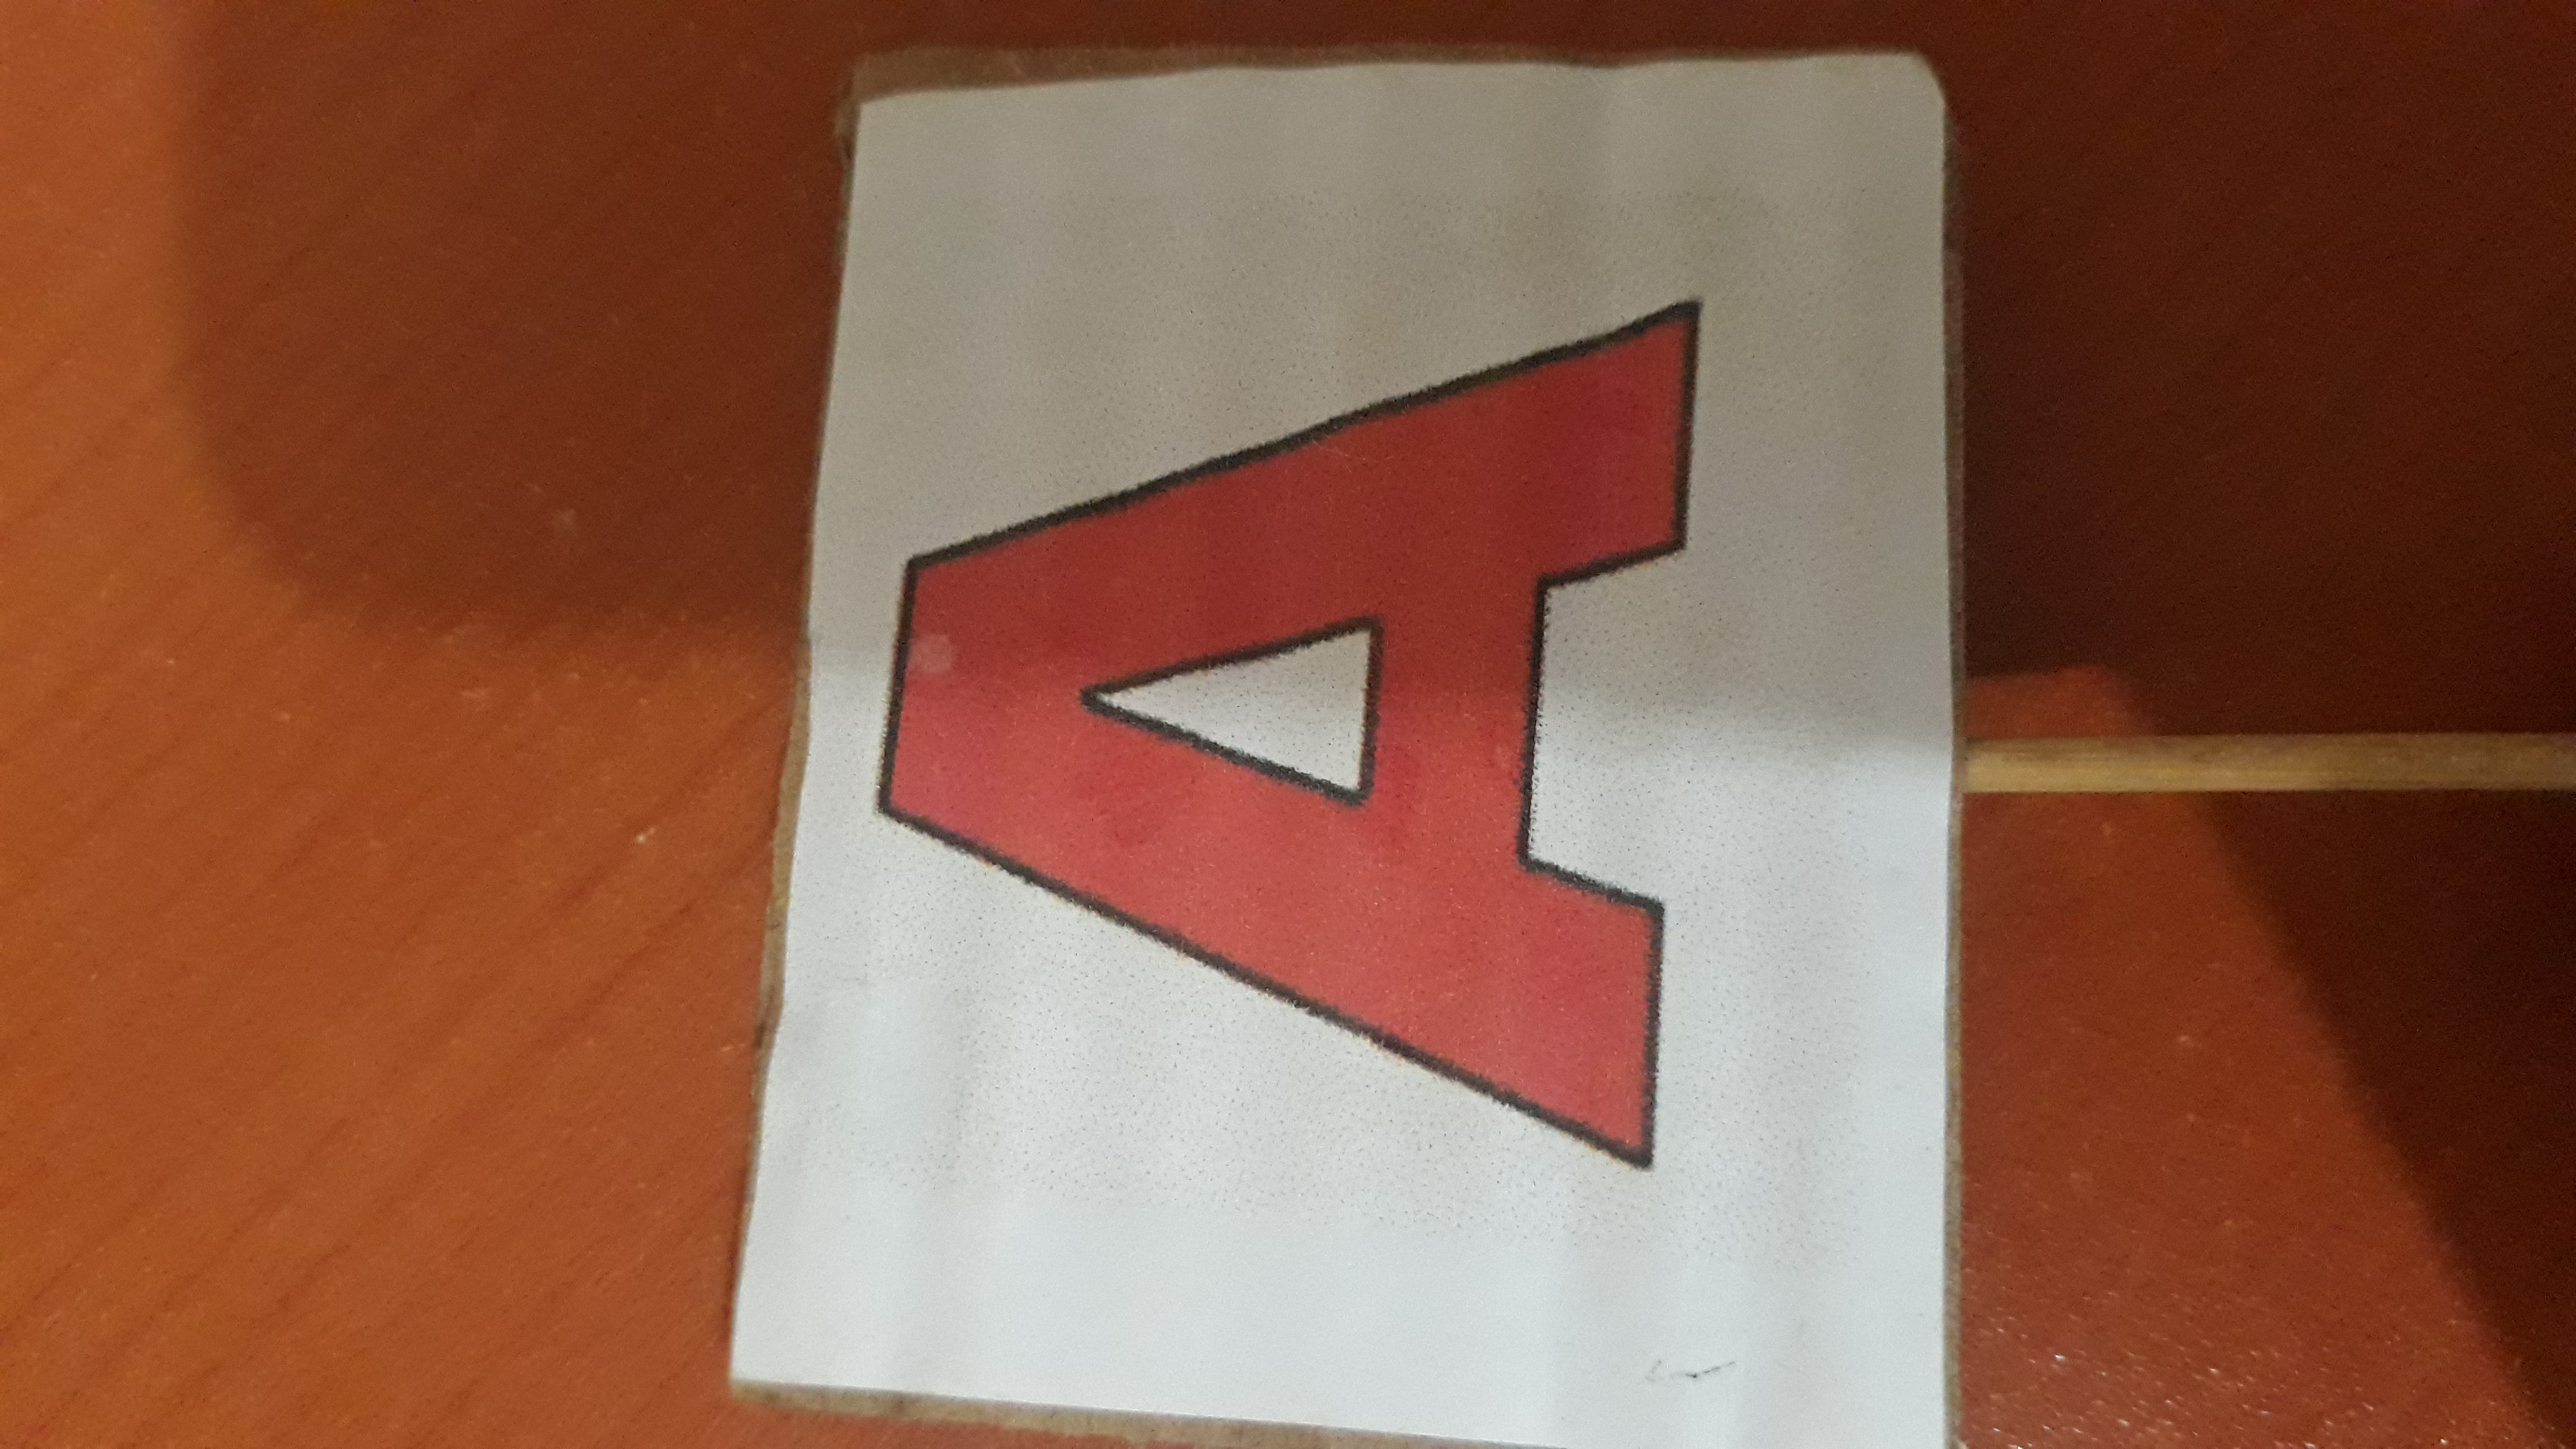zone A: (878, 165, 1805, 1207)
